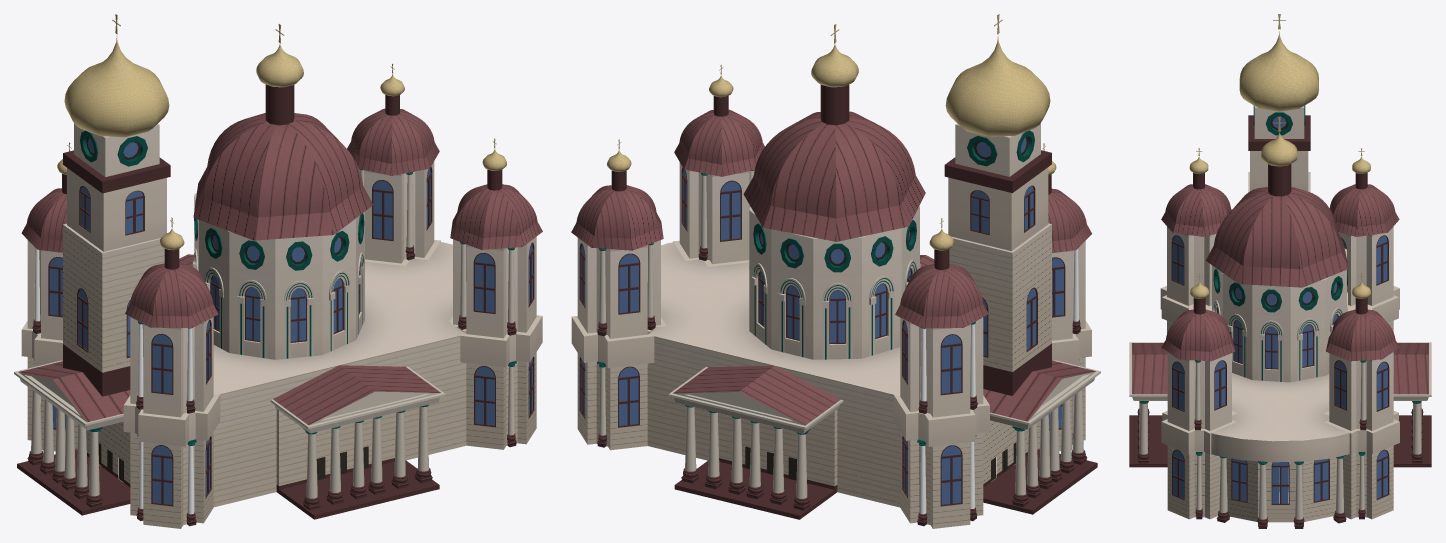
The picture shows the model from 3 angles, left to right: view 1: azimuth 30°, elevation 25°; view 2: azimuth 150°, elevation 25°; view 3: azimuth 270°, elevation 25°; orthographic projection. The views are drawn at different scales.
Visible parts, largest first — view 1: Organ; view 2: Organ; view 3: Organ.
Part boxes in pixels (left/top/right/bottom): Organ: left=14, top=14, right=542, bottom=528; Organ: left=571, top=14, right=1100, bottom=528; Organ: left=1129, top=14, right=1431, bottom=528.
Size of the model in its own units: 43.34 by 41.81 by 31.42.
12 materials, 6 textured.
